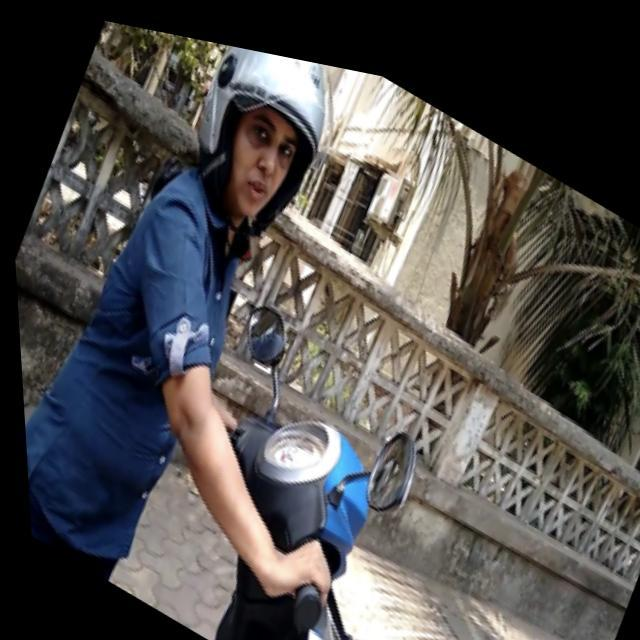Helmet: (193, 45, 330, 237)
